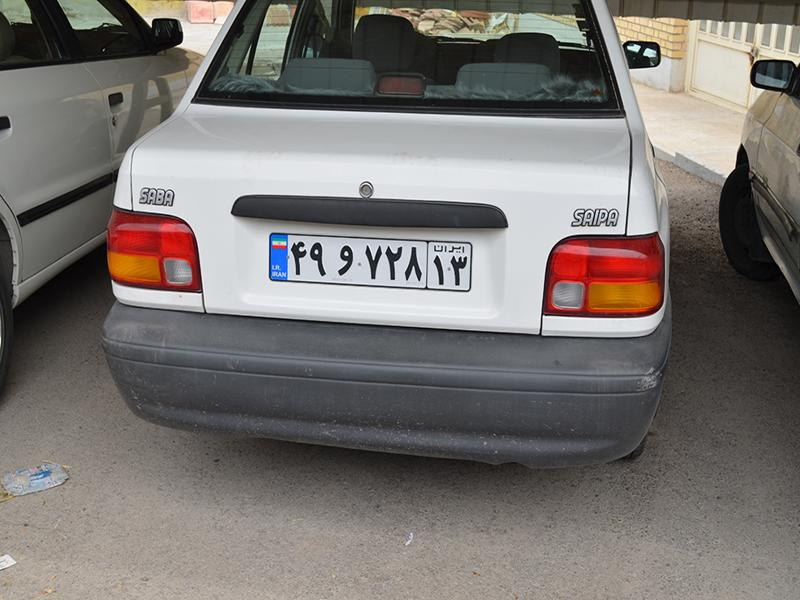Plate: (254, 216, 481, 303)
